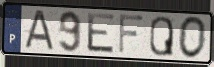9: (58, 10, 83, 54)
A: (22, 9, 57, 52)
E: (86, 11, 116, 55)
F: (117, 13, 146, 55)
O: (177, 15, 208, 61)
Q: (148, 15, 175, 58)
